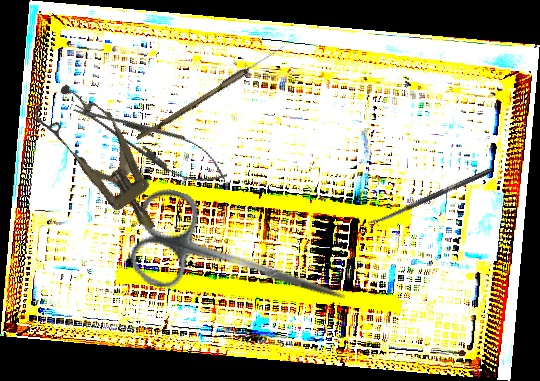Iris Scissors: (121, 182, 361, 341)
Needle Holder: (66, 88, 235, 196)
Speculum: (27, 73, 180, 248)
Surgical Spoon: (135, 42, 287, 144), (367, 166, 494, 228)
